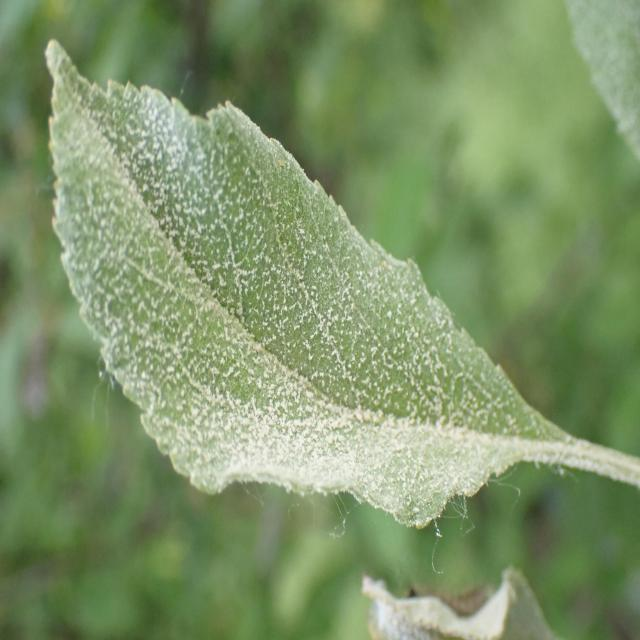Powdery_mildew: (77, 86, 563, 550)
